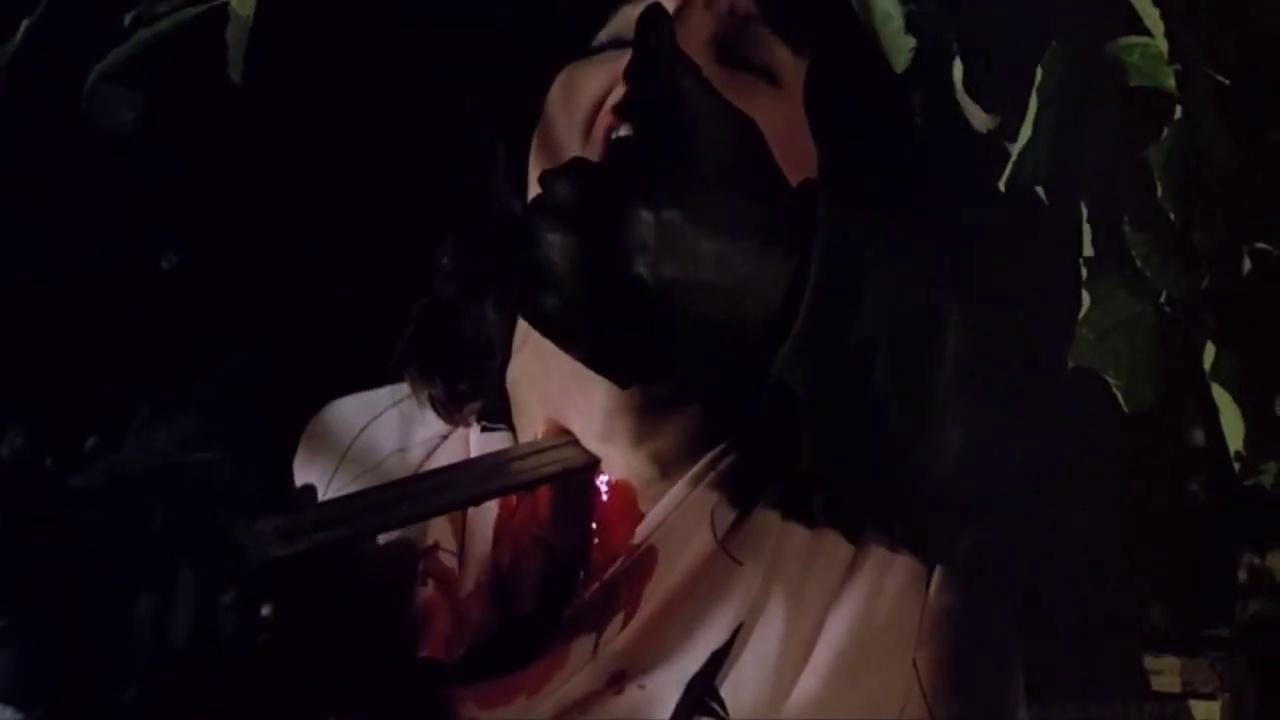Fire: (415, 468, 655, 719)
